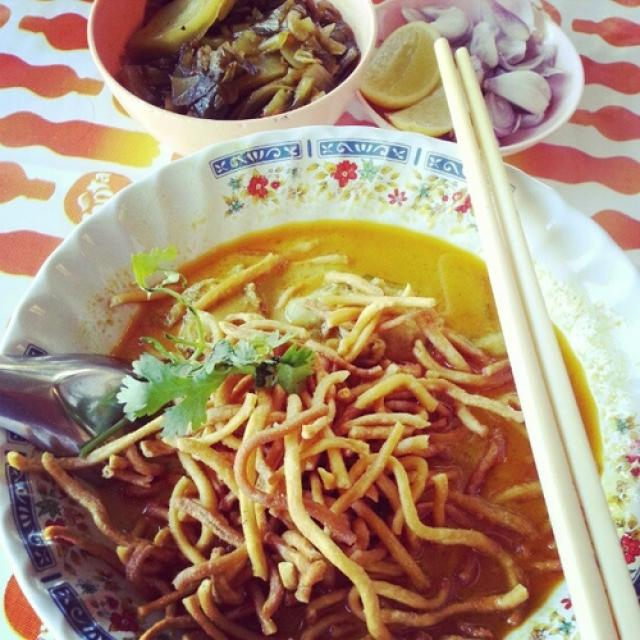面条主食: (15, 106, 608, 624)
